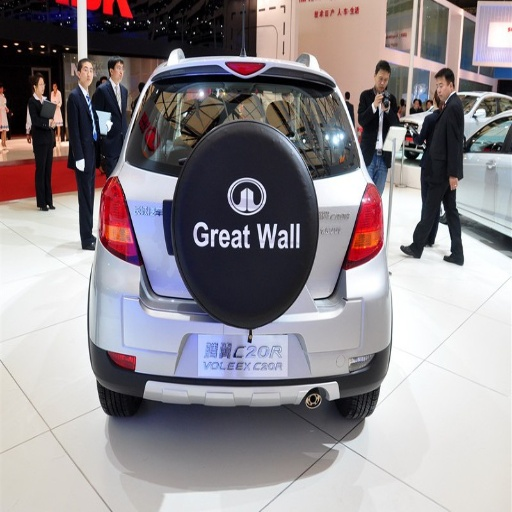back_bumper: (94, 250, 387, 405)
tailgate: (118, 175, 316, 324)
trunk: (289, 175, 365, 346), (121, 127, 197, 213)
